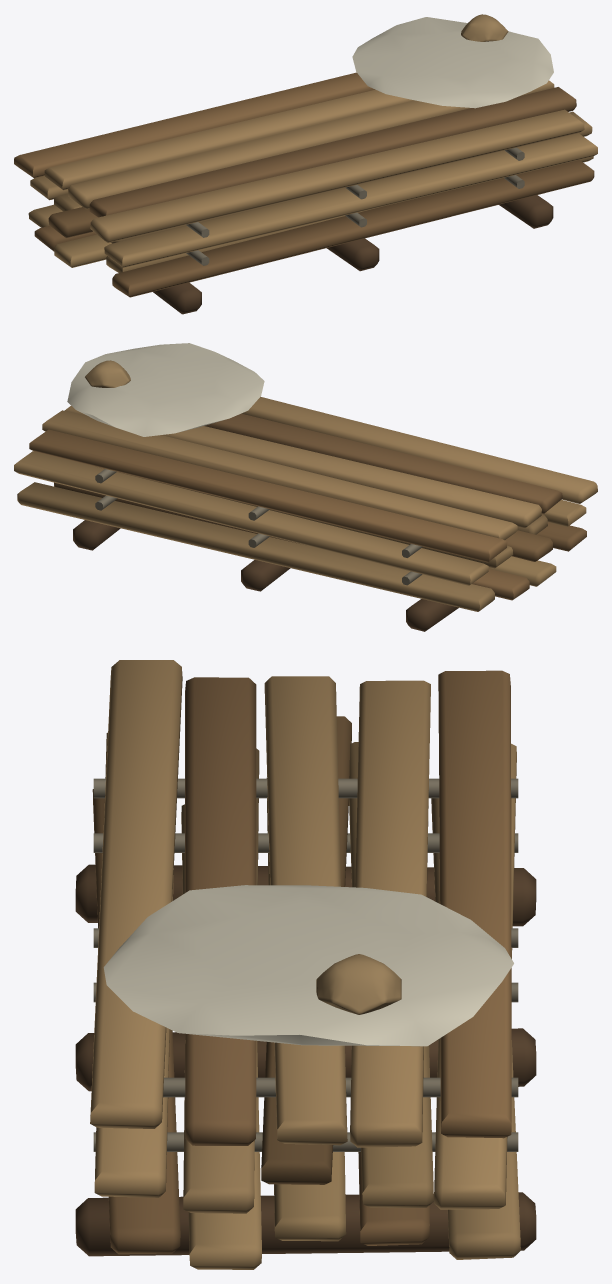
Rendered from timber_stack_a.glb.
3 views of the same model, one above another, from view 1: azimuth 30°, elevation 25°; view 2: azimuth 150°, elevation 25°; view 3: azimuth 270°, elevation 25° (orthographic). The views are drawn at different scales.
Visible parts, largest first — view 1: Surface; view 2: Surface; view 3: Surface.
Boxes of the visible parts, x1=… form: Surface: x1=14, y1=14, x2=597, y2=314; Surface: x1=14, y1=343, x2=597, y2=631; Surface: x1=75, y1=660, x2=536, y2=1269.
Size of the model in its own units: 3.22 by 0.9401 by 1.3.
